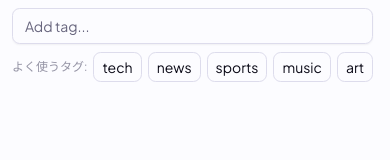
it: TagInput frequent tags › hides the section while the user is typing
The image size is (390, 160).
In the field named "Tag input": {"x": 193, "y": 26} 12,8 -> 373,44, type "te"
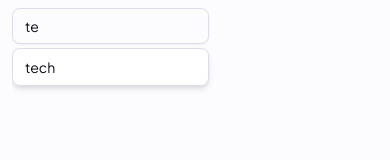
Expected: the text "よく使うタグ:" is gone
